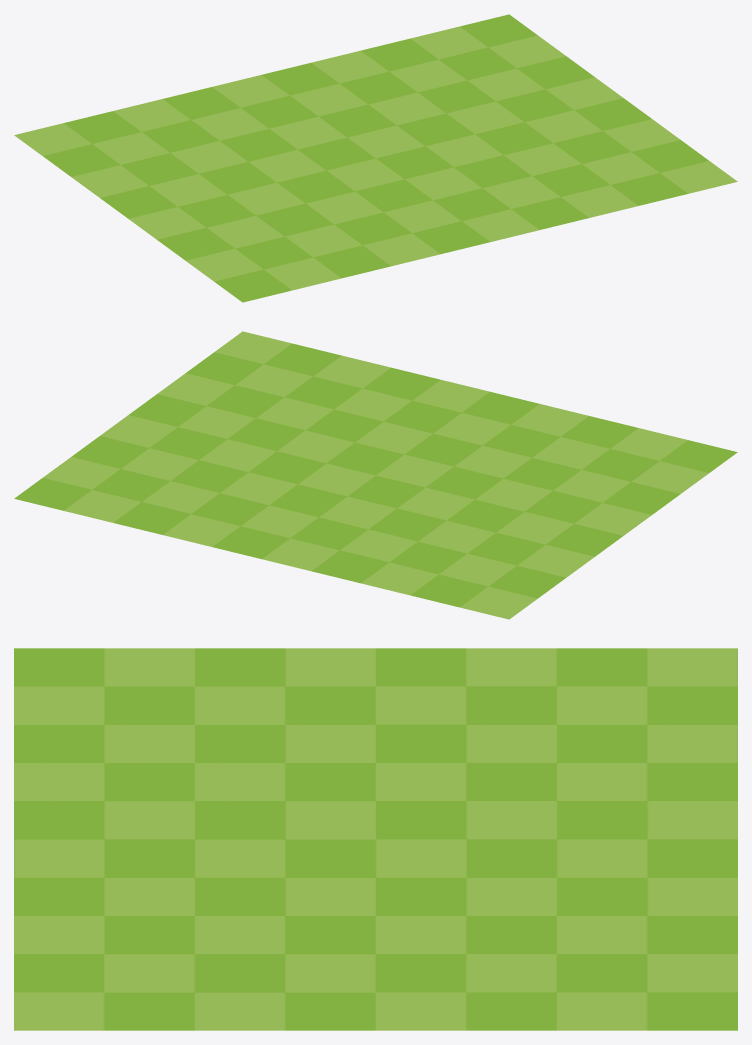
File: Grass8.fbx
3 views of the same model, one above another, from view 1: azimuth 30°, elevation 25°; view 2: azimuth 150°, elevation 25°; view 3: azimuth 270°, elevation 25° (orthographic). The views are drawn at different scales.
Parts seen in each view (by area): view 1: ChekerGrass2.008; view 2: ChekerGrass2.008; view 3: ChekerGrass2.008.
Boxes of the visible parts, bbox=[...] form: ChekerGrass2.008: bbox=[14, 14, 737, 302]; ChekerGrass2.008: bbox=[14, 331, 737, 619]; ChekerGrass2.008: bbox=[14, 648, 737, 1030].
Bounding box in the file's own units: 1 × 1.3e-07 × 0.7998.
1 material, 1 textured.
